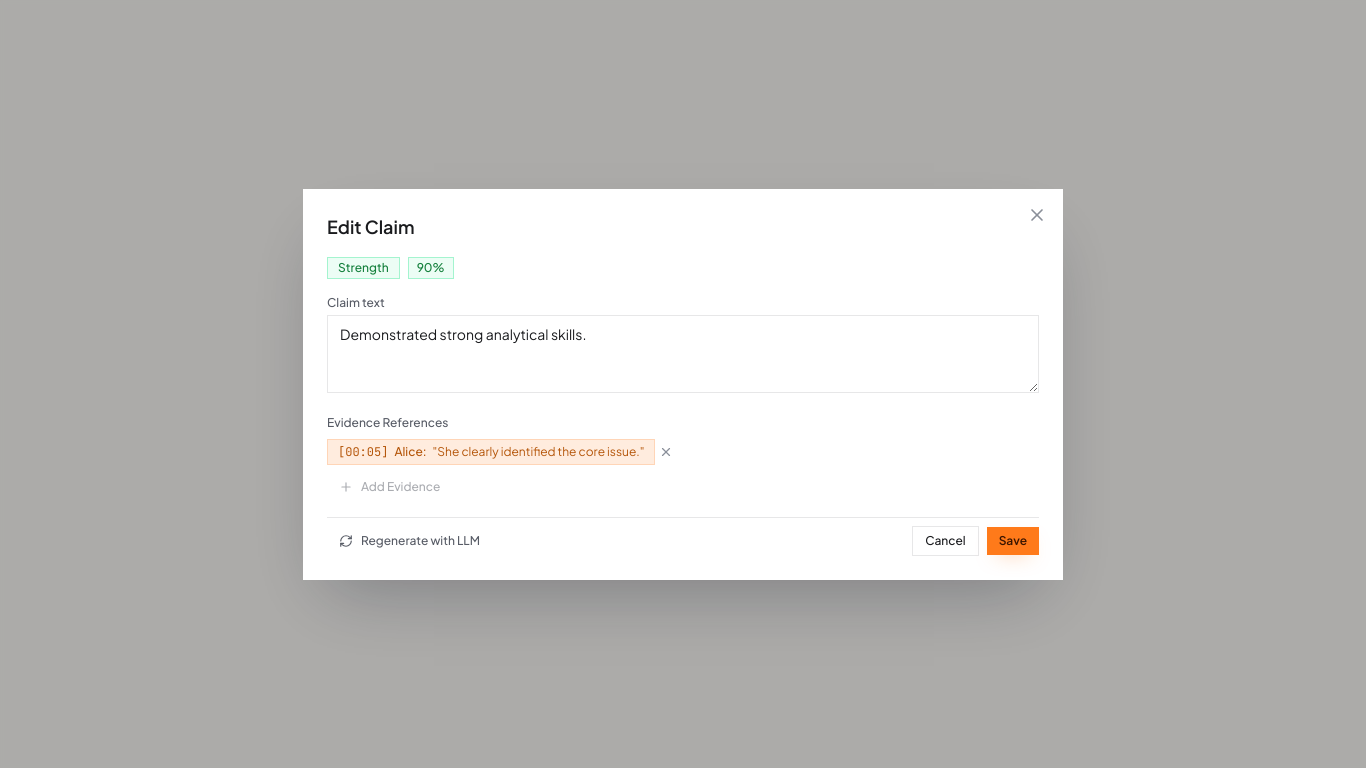
Test: EditClaimModal › updates textarea with regenerated text after successful regeneration
Click the button "Regenerate with LLM" at (410,540), box [327,526,492,554]
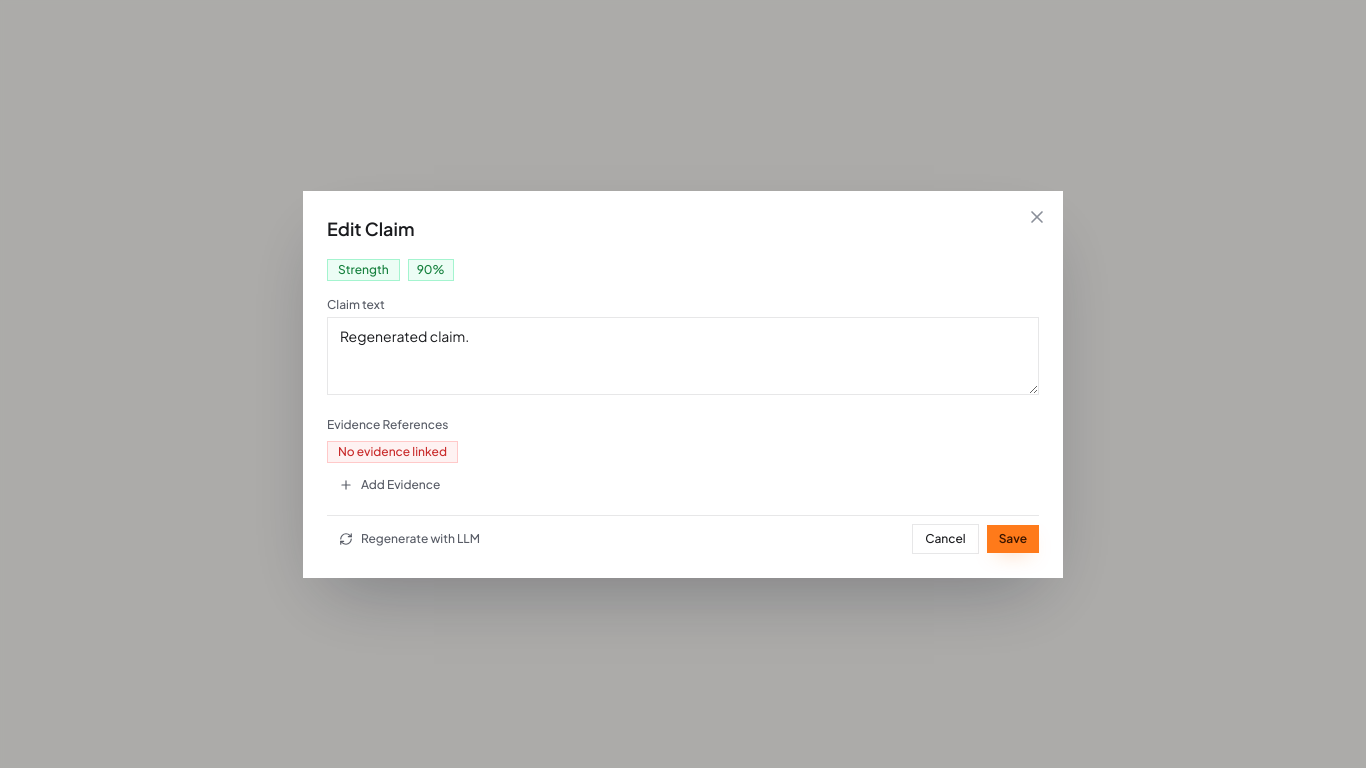
Now the text box holds "Regenerated claim.", box [327,316,1039,394]
